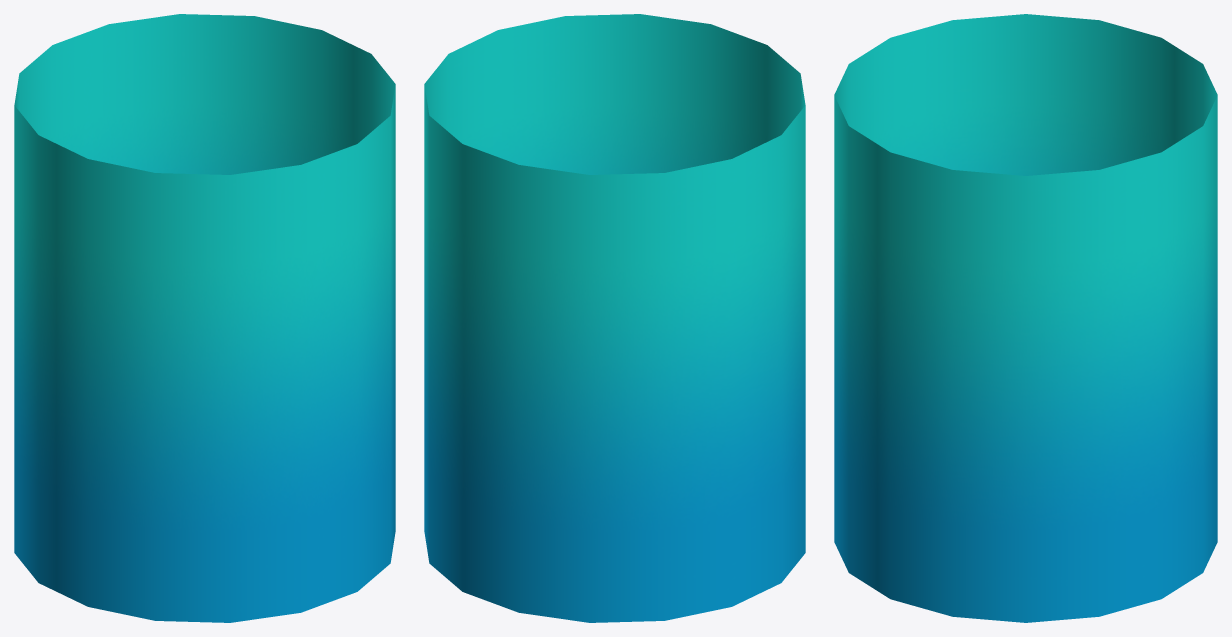
Rendered from exit2.dae.
3 views of the same model, side by side, from view 1: azimuth 30°, elevation 25°; view 2: azimuth 150°, elevation 25°; view 3: azimuth 270°, elevation 25° (orthographic).
Parts seen in each view (by area): view 1: Cylinder_001; view 2: Cylinder_001; view 3: Cylinder_001.
Boxes of the visible parts, bbox=[...] form: Cylinder_001: bbox=[14, 14, 395, 622]; Cylinder_001: bbox=[424, 14, 805, 622]; Cylinder_001: bbox=[834, 14, 1217, 622].
Size of the model in its own units: 6.01 by 6.01 by 7.72.
1 material, 1 textured.
